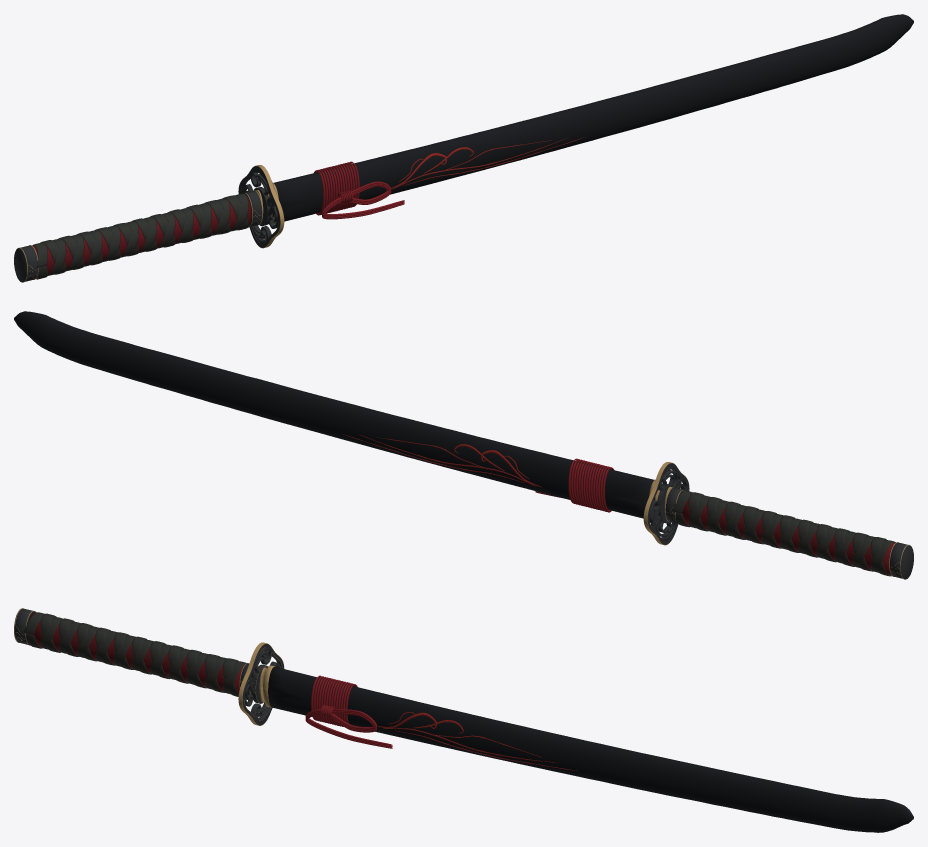
The model's file is ronin-katana-v04.glb.
The picture shows the model from 3 angles, top to bottom: view 1: azimuth 30°, elevation 25°; view 2: azimuth 150°, elevation 25°; view 3: azimuth 330°, elevation 25°; orthographic projection.
Visible parts, largest first — view 1: Ronin_saya_lacquer v04, Ronin_grip_wrap v04, Ronin_saya_cord v04, Ronin_grip_underlay v04, Ronin_guard_iron v04, Ronin_grip_iron v04, Ronin_saya_red-lacquer v04; view 2: Ronin_saya_lacquer v04, Ronin_grip_wrap v04, Ronin_saya_cord v04, Ronin_grip_underlay v04, Ronin_guard_iron v04, Ronin_grip_iron v04, Ronin_saya_red-lacquer v04; view 3: Ronin_saya_lacquer v04, Ronin_grip_wrap v04, Ronin_saya_cord v04, Ronin_grip_underlay v04, Ronin_guard_iron v04, Ronin_saya_red-lacquer v04, Ronin_guard_brass v04, Ronin_grip_iron v04.
Part boxes in pixels (x1=…): Ronin_saya_lacquer v04: x1=269, y1=14, x2=913, y2=224; Ronin_grip_wrap v04: x1=32, y1=193, x2=248, y2=279; Ronin_saya_cord v04: x1=314, y1=161, x2=404, y2=219; Ronin_grip_underlay v04: x1=32, y1=196, x2=251, y2=277; Ronin_guard_iron v04: x1=238, y1=166, x2=280, y2=247; Ronin_grip_iron v04: x1=14, y1=190, x2=262, y2=282; Ronin_saya_red-lacquer v04: x1=386, y1=137, x2=585, y2=190; Ronin_saya_lacquer v04: x1=14, y1=311, x2=662, y2=518; Ronin_grip_wrap v04: x1=671, y1=490, x2=895, y2=576; Ronin_saya_cord v04: x1=535, y1=458, x2=614, y2=512; Ronin_grip_underlay v04: x1=682, y1=498, x2=895, y2=574; Ronin_guard_iron v04: x1=647, y1=463, x2=689, y2=544; Ronin_grip_iron v04: x1=665, y1=487, x2=913, y2=579; Ronin_saya_red-lacquer v04: x1=342, y1=434, x2=541, y2=487; Ronin_saya_lacquer v04: x1=268, y1=666, x2=913, y2=832; Ronin_grip_wrap v04: x1=23, y1=612, x2=246, y2=696; Ronin_saya_cord v04: x1=305, y1=675, x2=392, y2=748; Ronin_grip_underlay v04: x1=28, y1=612, x2=244, y2=693; Ronin_guard_iron v04: x1=242, y1=644, x2=284, y2=725; Ronin_saya_red-lacquer v04: x1=377, y1=712, x2=577, y2=770; Ronin_guard_brass v04: x1=238, y1=642, x2=284, y2=725; Ronin_grip_iron v04: x1=14, y1=608, x2=251, y2=694.
Size of the model in its own units: 9.56 by 0.8208 by 0.7815.
